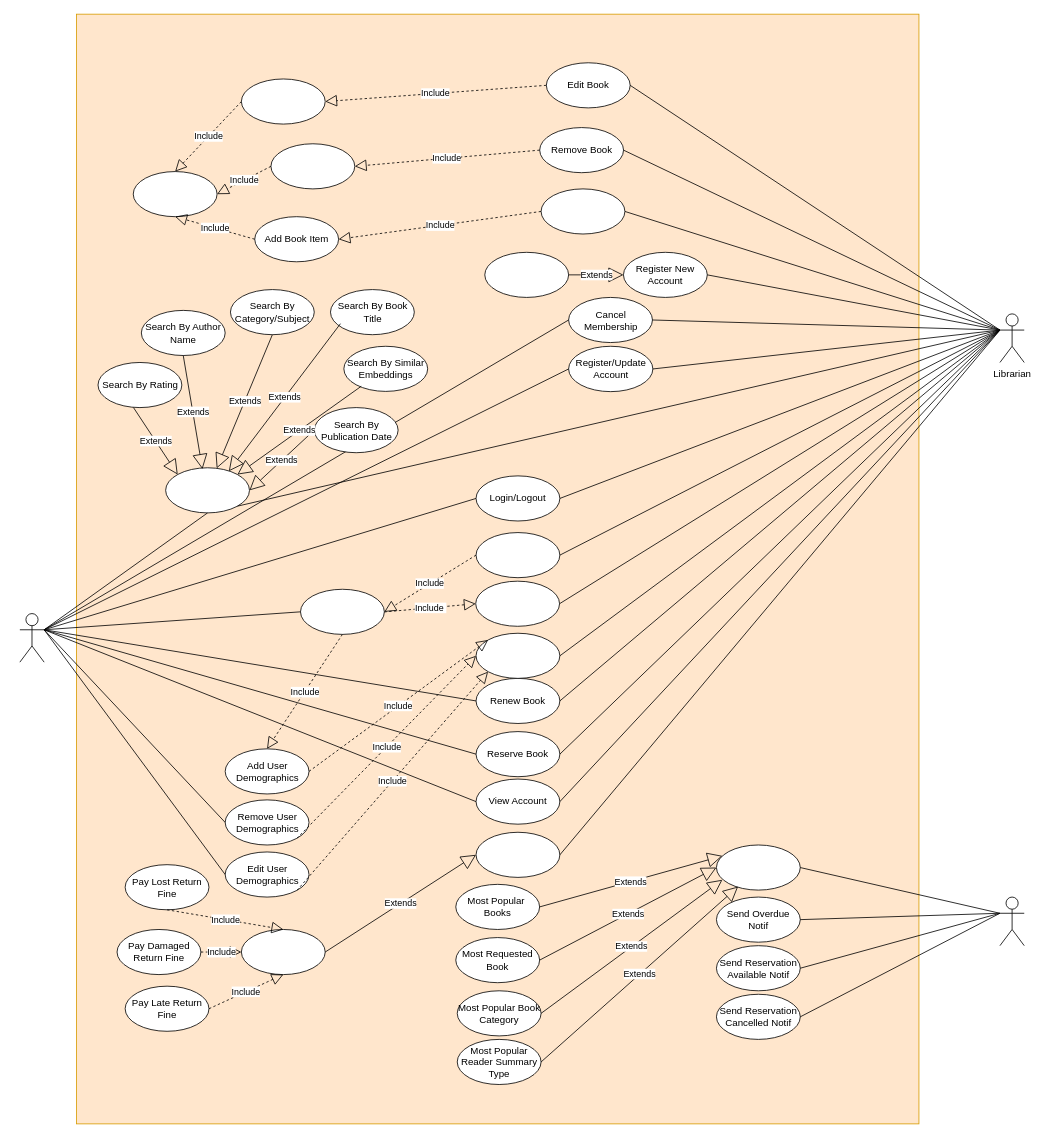
Some shapes in this 1045 by 1138 pixel diagram are drawn without their labels. The box of each missing label's shape, as (x1, y1, x2, y2) in pixels:
Add Book: (540, 188, 625, 234)
Checkout Book: (300, 588, 384, 634)
Edit Book Item: (241, 78, 325, 124)
Get ALL Stats: (716, 844, 800, 890)
Issue Book: (475, 532, 560, 578)
Issue Library Card: (484, 252, 569, 297)
Member: (19, 613, 44, 662)
Pay Fine: (241, 929, 325, 975)
Remove Book Item: (270, 143, 355, 189)
Remove Reservation: (475, 580, 560, 626)
Return Book: (475, 831, 560, 877)
Search Book DB/Catalogue: (165, 467, 249, 513)
System: (999, 896, 1024, 946)
Update Book DB/Catalogue: (132, 171, 217, 217)
Update User DB/Catalouge: (475, 632, 560, 678)
